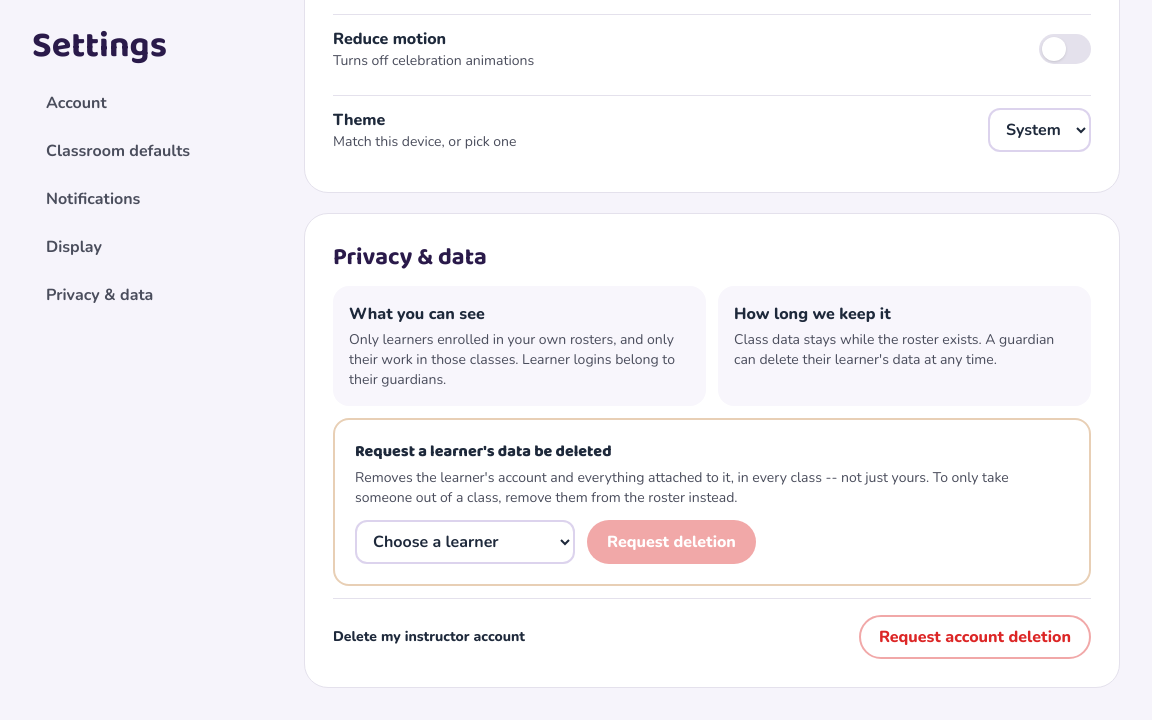
InstructorSettingsFlow › submits an instructor account-deletion request targeting the instructor's own id
The width and height of the screenshot is (1152, 720).
(page scrolled)
Click the button "Request account deletion".
click(975, 637)  # box [859,615,1091,659]
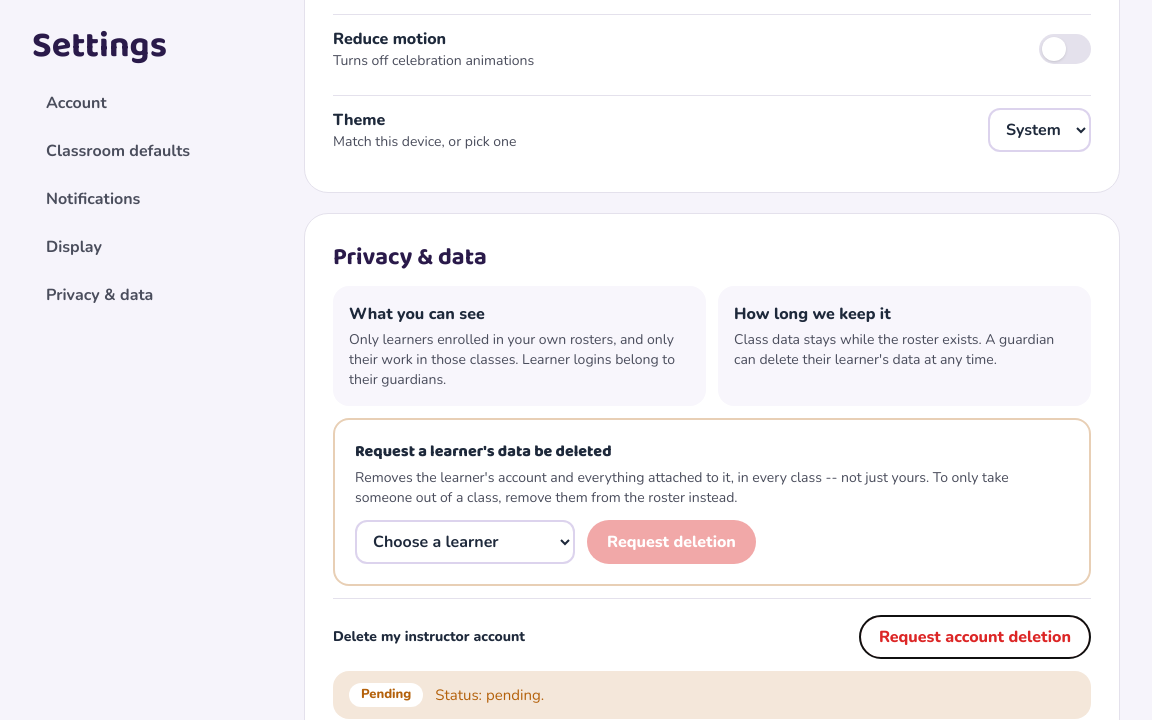
Check: the text "Status: pending." is shown, box [435,684,544,706]
